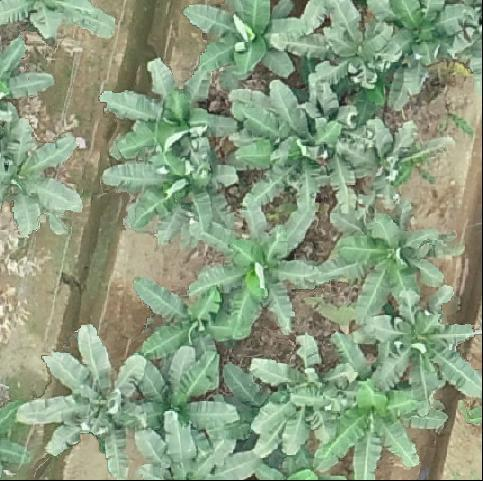Banana-plant: (17, 324, 160, 478), (295, 342, 446, 481), (219, 78, 376, 210), (188, 191, 325, 335), (100, 130, 240, 249), (100, 57, 239, 171), (331, 207, 456, 332), (366, 287, 483, 414), (117, 348, 238, 466), (248, 334, 356, 458), (126, 274, 252, 377), (381, 0, 481, 112), (282, 0, 402, 91), (334, 117, 455, 205), (0, 114, 83, 238), (186, 0, 302, 80), (126, 413, 262, 481)
